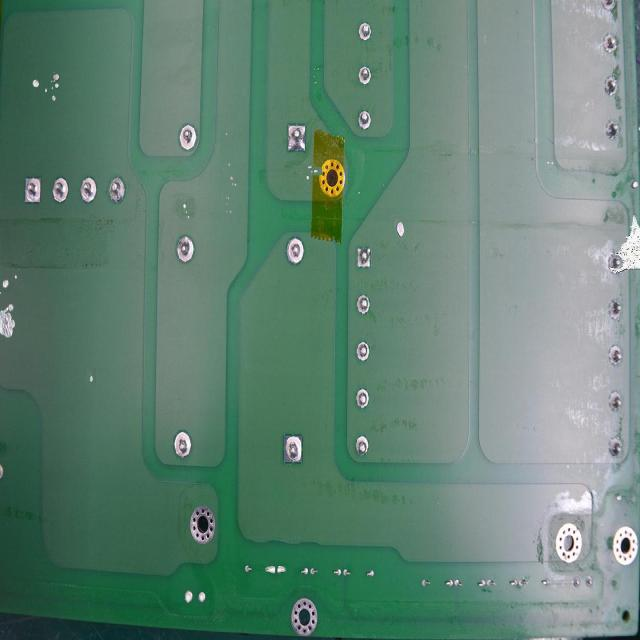spillover: (220, 129, 238, 224), (27, 63, 64, 106), (0, 269, 19, 292), (390, 215, 407, 239), (179, 196, 194, 220), (299, 161, 317, 180), (85, 367, 96, 385)
